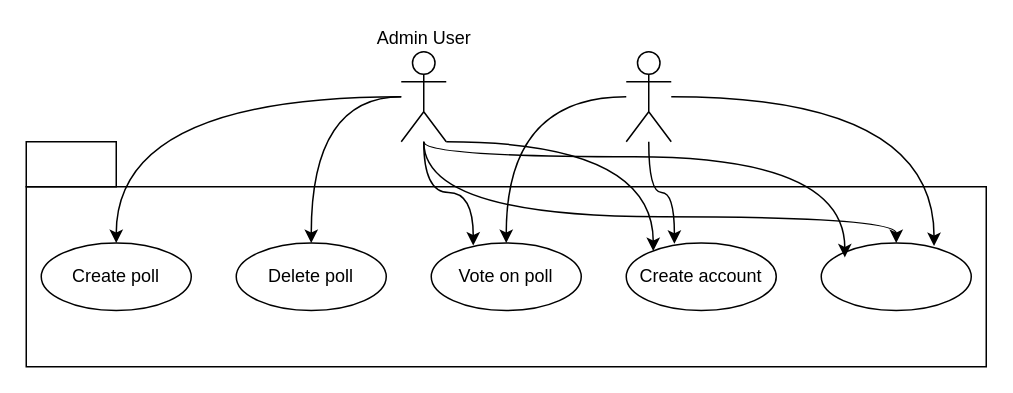
This 1013x393 diagram has some shape labels left out. Each missing label, with the box of its shape:
FeedApp: (25, 140, 116, 187)
Log into account: (820, 242, 971, 310)
User: (625, 50, 671, 142)
